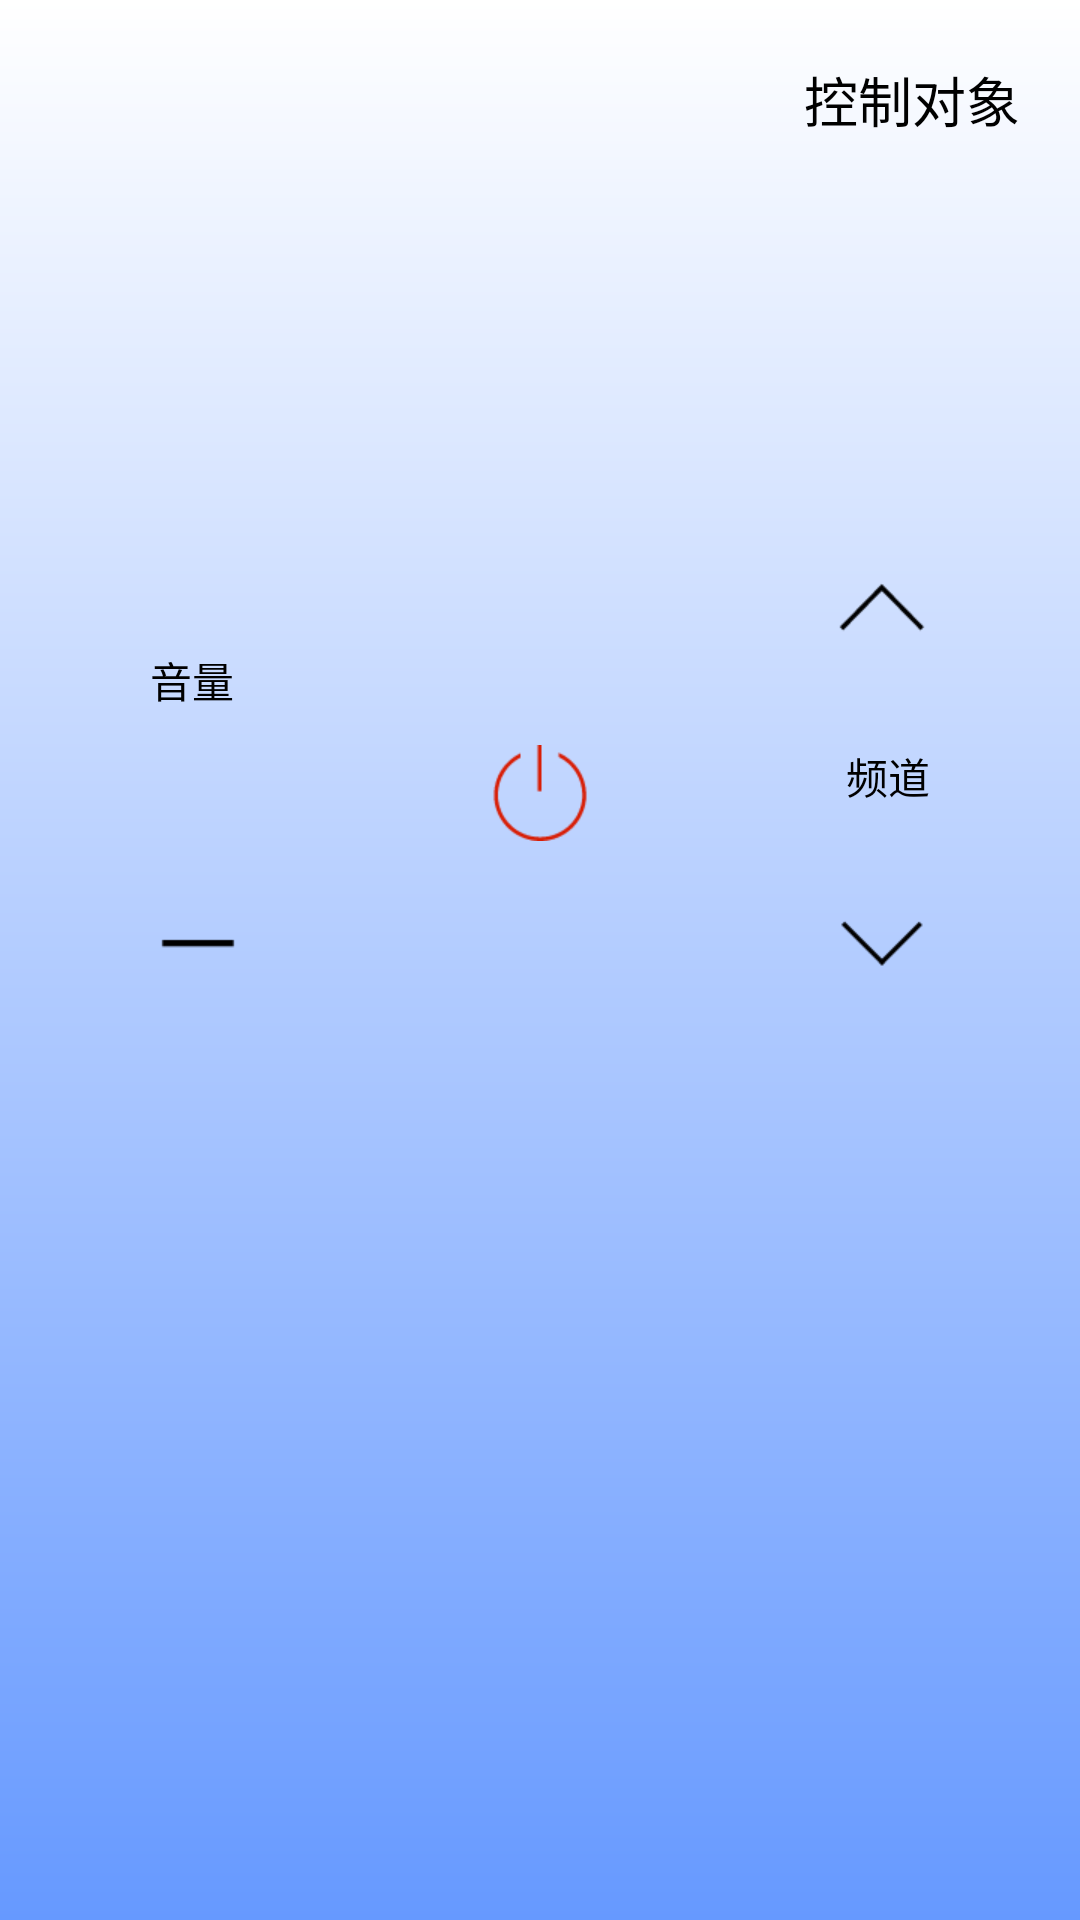

Point at icon controls on the screen. Image size 1080px x 1920px, points as (x,y).
arrow down: (882,943)
arrow up: (881,607)
off: (540,793)
